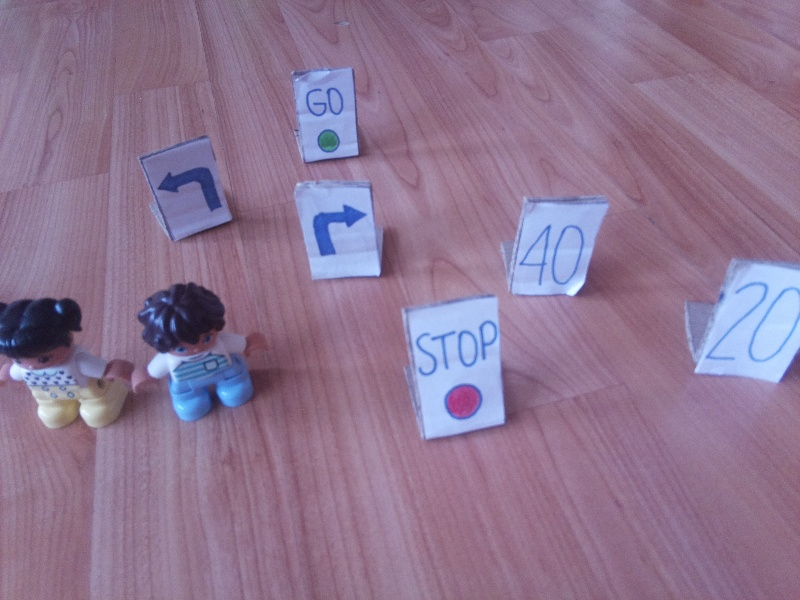20: (711, 273, 800, 372)
40: (520, 216, 583, 285)
go: (302, 80, 352, 155)
person: (135, 276, 268, 426), (1, 286, 131, 432)
stop: (414, 317, 496, 418)
turn left: (152, 160, 225, 216)
turn right: (305, 196, 366, 266)
